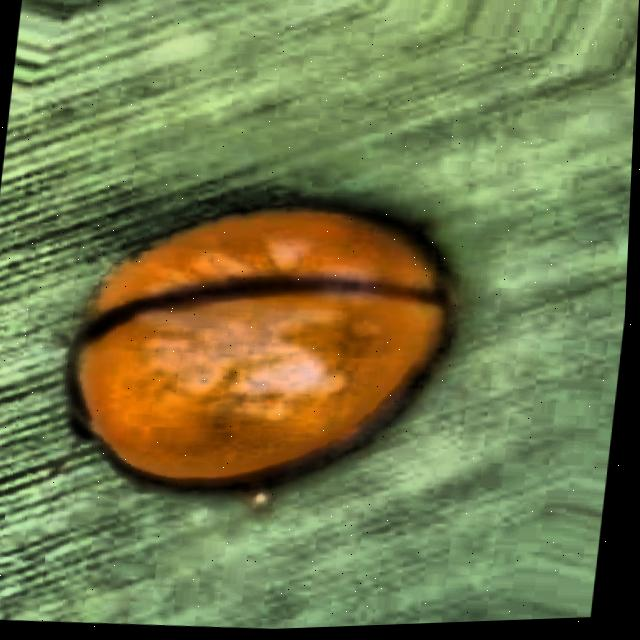Ladybug: (0, 106, 580, 558)
